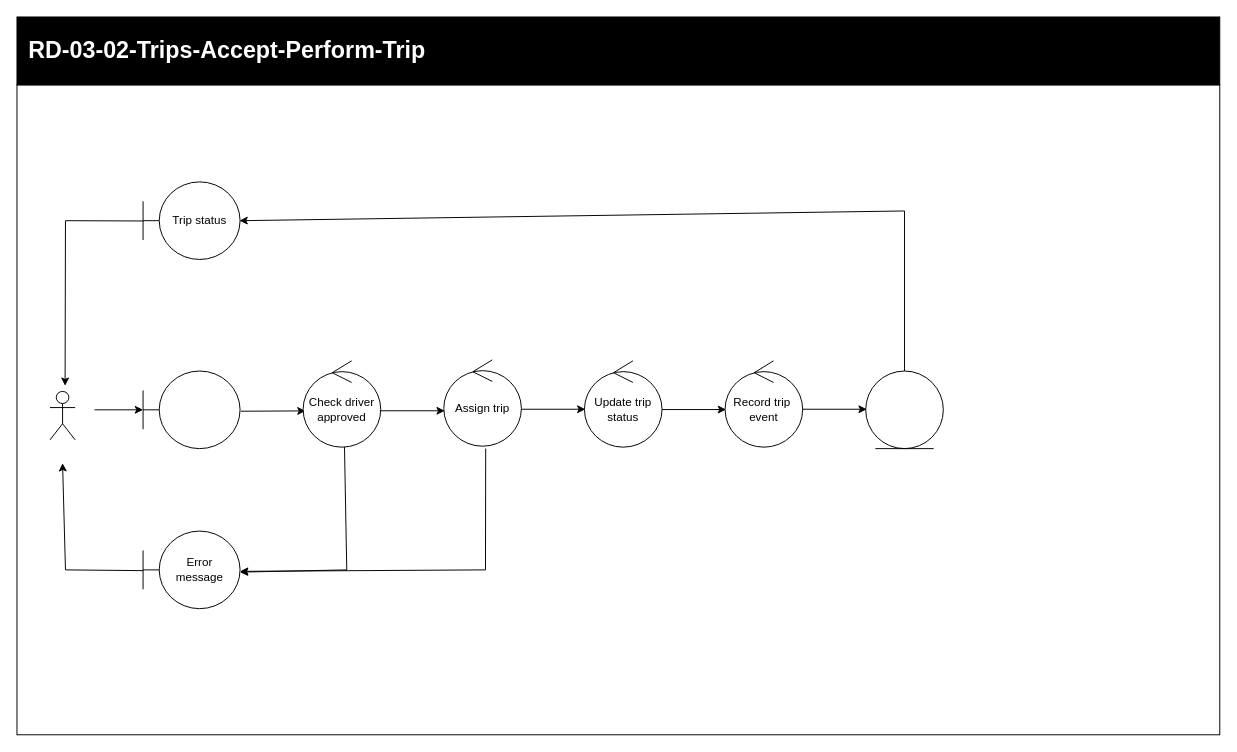
The diagram is 1237 pixels wide and 752 high, and some of its shapes have lost their labels. The shapes that lost their labels are listed below. From the top down, each one's centre as x and y in pixels, then its label:
At [62,415]: "Driver".
At [191,409]: "Trip offer".
At [904,409]: "DB Trip".
